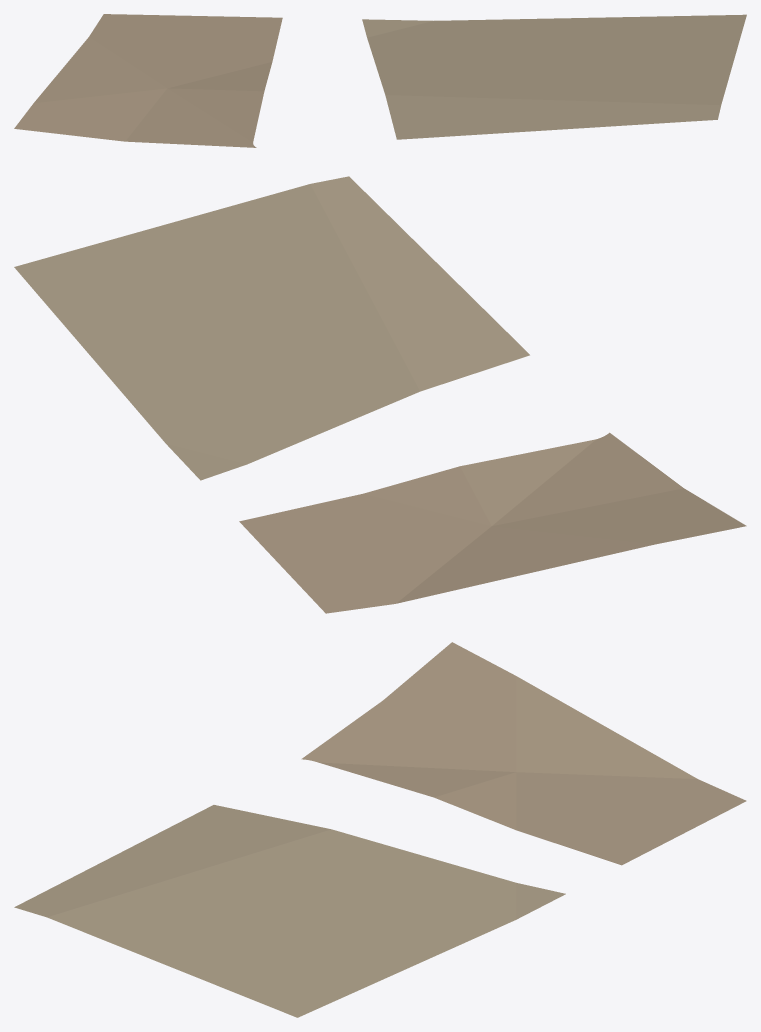
File: farm_-18_-25_soil.glb
The picture shows the model from 3 angles, top to bottom: view 1: azimuth 30°, elevation 25°; view 2: azimuth 150°, elevation 25°; view 3: azimuth 270°, elevation 25°; orthographic projection. The views are drawn at different scales.
Parts seen in each view (by area): view 1: geometry_0; view 2: geometry_0; view 3: geometry_0.
Part boxes in pixels (bbox=[...]): geometry_0: bbox=[14, 14, 746, 147]; geometry_0: bbox=[14, 176, 746, 613]; geometry_0: bbox=[14, 642, 746, 1017].
Bounding box in the file's own units: 107 × 8.2 × 88.31.
